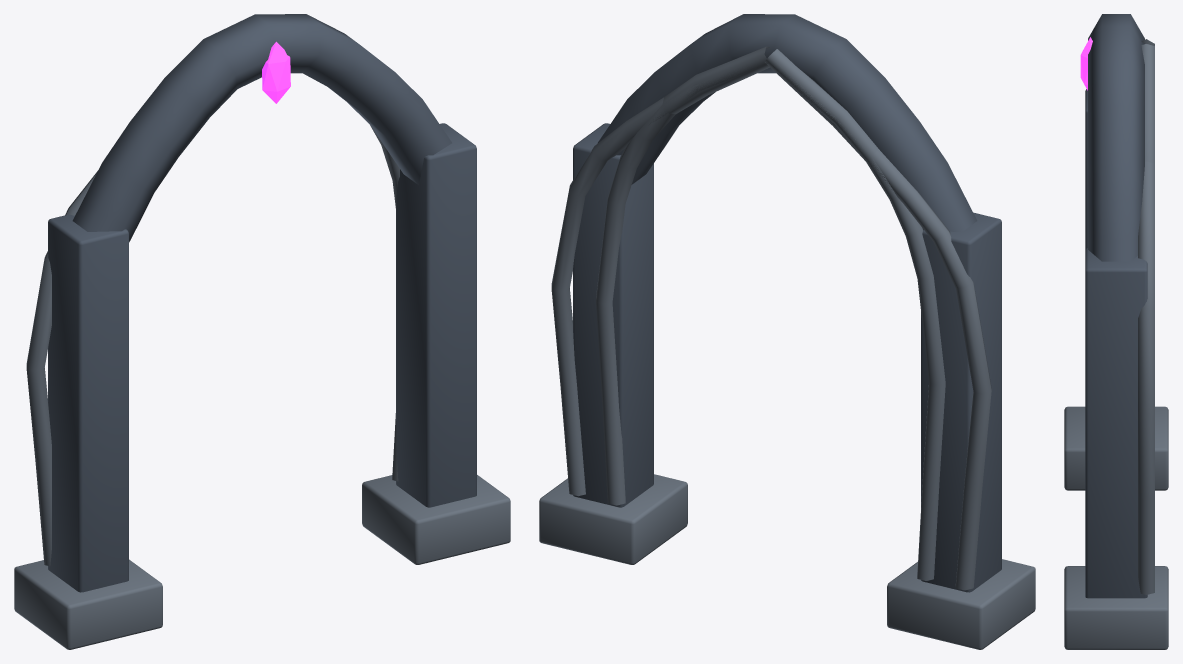
Rendered from prop-3-refined-v15.fbx.
3 renders of one model, left to right at view 1: azimuth 30°, elevation 25°; view 2: azimuth 150°, elevation 25°; view 3: azimuth 270°, elevation 25°, orthographic. The views are drawn at different scales.
Visible parts, largest first — view 1: GothicPier, GothicPier.001, PointedArch, PierBase, PierBase.001, ArchRib.001, ArchKeystone; view 2: GothicPier.001, PointedArch, GothicPier, ArchRib, ArchRib.001, ArchRib.002, ArchRib.003, PierBase, PierBase.001; view 3: GothicPier.001, PointedArch, PierBase.001, ArchRib.003, PierBase, ArchRib.002, GothicPier, ArchKeystone.
Part boxes in pixels (x1=…): GothicPier: x1=48, y1=214, x2=128, y2=592; GothicPier.001: x1=396, y1=123, x2=476, y2=507; PointedArch: x1=72, y1=14, x2=451, y2=242; PierBase: x1=14, y1=559, x2=162, y2=649; PierBase.001: x1=362, y1=475, x2=510, y2=564; ArchRib.001: x1=26, y1=171, x2=97, y2=566; ArchKeystone: x1=262, y1=41, x2=290, y2=103; GothicPier.001: x1=573, y1=123, x2=653, y2=507; PointedArch: x1=598, y1=14, x2=977, y2=231; GothicPier: x1=921, y1=212, x2=1001, y2=592; ArchRib: x1=765, y1=49, x2=945, y2=580; ArchRib.001: x1=767, y1=56, x2=991, y2=590; ArchRib.002: x1=596, y1=47, x2=768, y2=505; ArchRib.003: x1=551, y1=46, x2=769, y2=496; PierBase: x1=887, y1=559, x2=1035, y2=649; PierBase.001: x1=539, y1=474, x2=687, y2=564; GothicPier.001: x1=1085, y1=248, x2=1147, y2=598; PointedArch: x1=1088, y1=14, x2=1144, y2=261; PierBase.001: x1=1064, y1=566, x2=1168, y2=649; ArchRib.003: x1=1138, y1=161, x2=1154, y2=594; PierBase: x1=1064, y1=406, x2=1168, y2=490; ArchRib.002: x1=1141, y1=44, x2=1154, y2=163; GothicPier: x1=1085, y1=89, x2=1087, y2=249; ArchKeystone: x1=1080, y1=37, x2=1092, y2=90.
Bounding box in the file's own units: 370 × 444 × 80.
